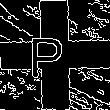P_N: (36, 30, 74, 80)
